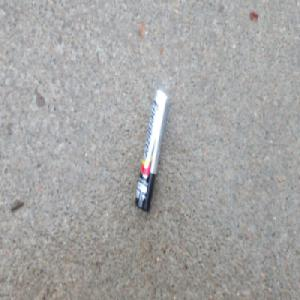Battery: (133, 86, 169, 213)
